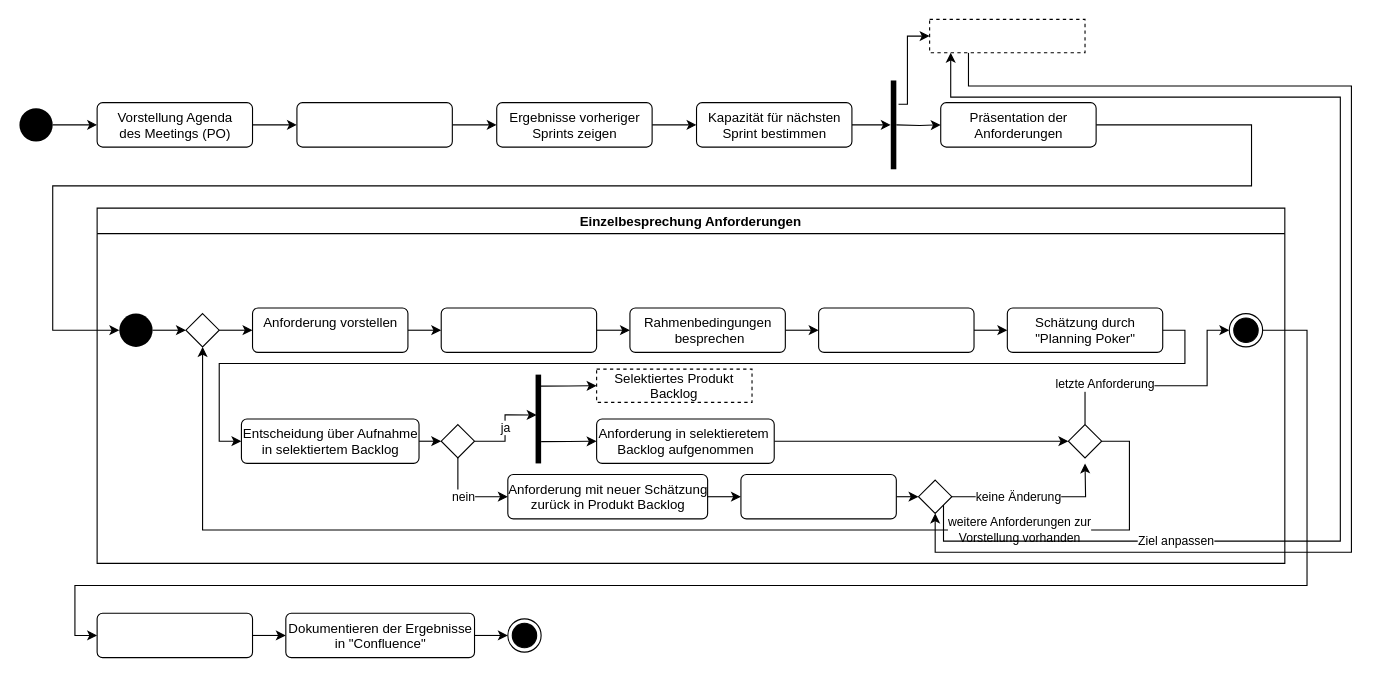
The diagram is 1380 pixels wide and 677 high, and some of its shapes have lost their labels. The shapes that lost their labels are listed below. From the top down, each one's centre as x and y in pixels, then its label:
At pixel 1007 35: "Ziel".
At pixel 374 124: "Vorstellung des Sprintziels (PO)".
At pixel 518 329: "Anforderung im Team analysieren".
At pixel 896 329: "Einflussfaktoren besprechen".
At pixel 818 496: "Überprüfung des festgelegten Ziels".
At pixel 174 635: "Forecast der Beteiligten".
